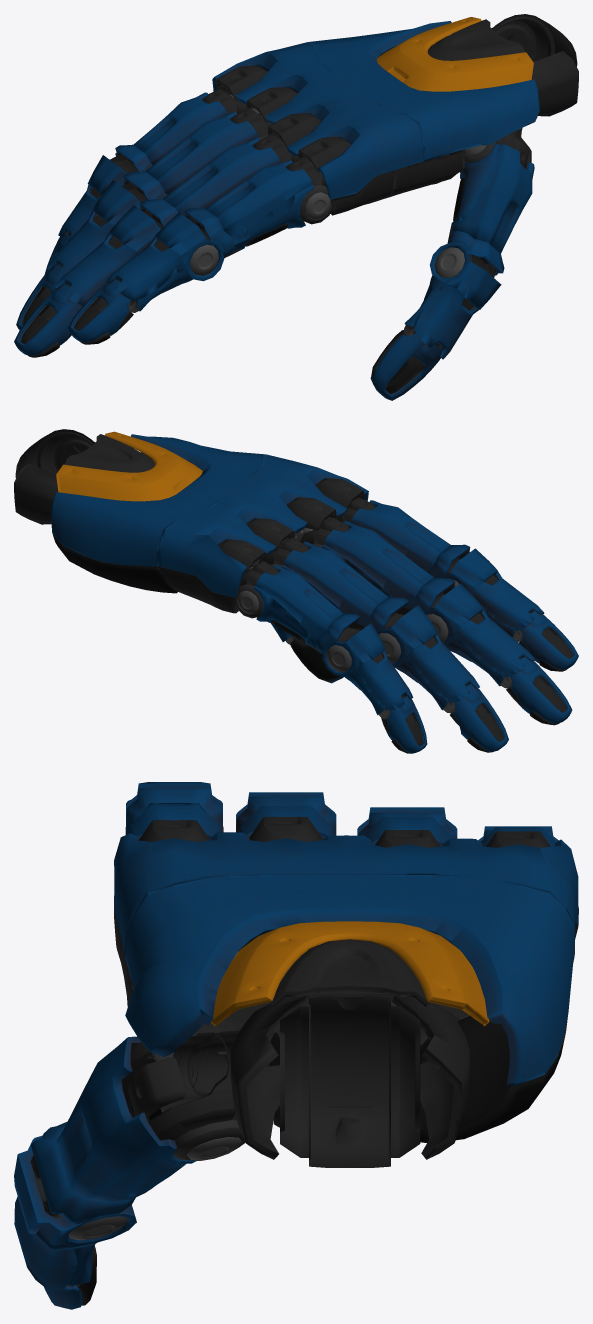
The model's file is Robotic_Hand_Right.fbx.
The picture shows the model from 3 angles, top to bottom: view 1: azimuth 30°, elevation 25°; view 2: azimuth 150°, elevation 25°; view 3: azimuth 270°, elevation 25°; orthographic projection. The views are drawn at different scales.
Parts seen in each view (by area): view 1: Robotic_Hand_Right; view 2: Robotic_Hand_Right; view 3: Robotic_Hand_Right.
Boxes of the visible parts, <box> form: Robotic_Hand_Right: <box>14,14,578,400</box>; Robotic_Hand_Right: <box>14,429,578,753</box>; Robotic_Hand_Right: <box>14,782,578,1309</box>.
Size of the model in its own units: 21.37 by 9.69 by 10.07.
